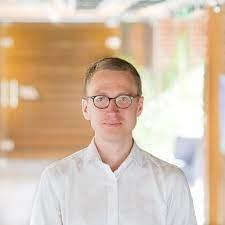Persons: (72, 52, 158, 151)
